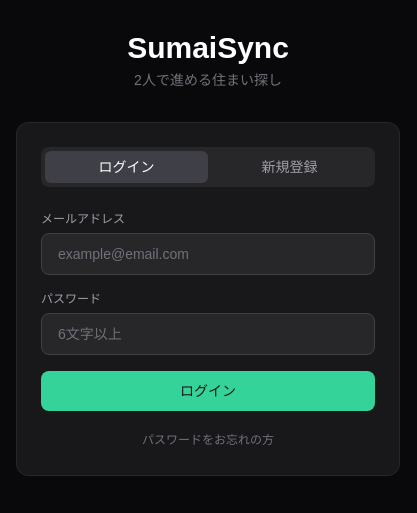
Test: LoginPage › サインアップ成功時に確認メール送信画面が表示される
Click the button "新規登録".
click(290, 167)  # box x1=208 y1=151 x2=371 y2=183
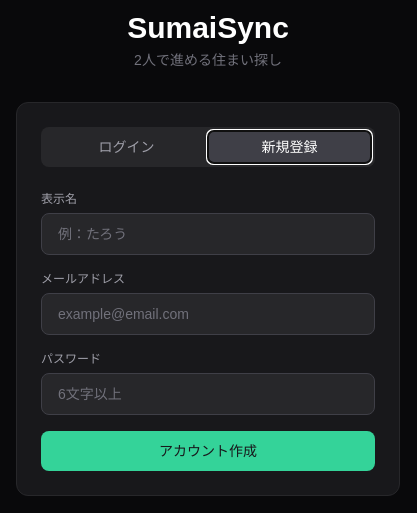
Type "たろう" into the field with placeholder "例：たろう".
click(208, 234); type("たろう")  # box x1=41 y1=213 x2=375 y2=255
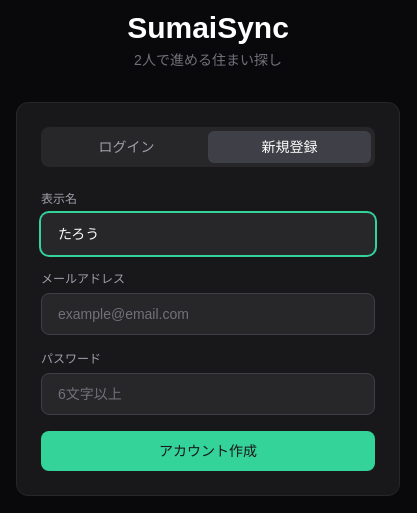
Type "new@example.com" into the field with placeholder "example@email.com".
click(208, 314); type("new@example.com")  # box x1=41 y1=293 x2=375 y2=335
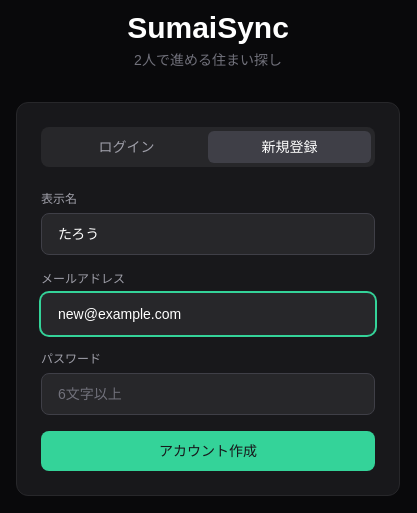
Type "password123" into the password field with placeholder "6文字以上".
click(208, 394); type("password123")  # box x1=41 y1=373 x2=375 y2=415
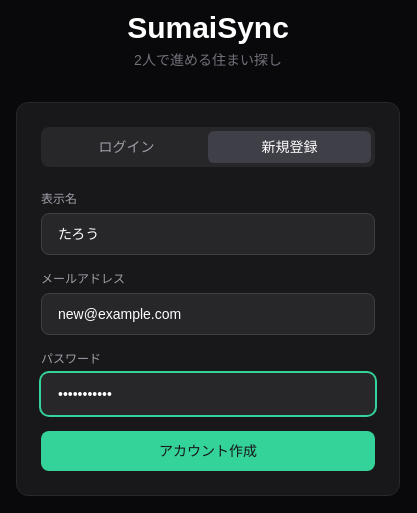
Click the button with test id "submit-button".
click(208, 451)  # box x1=41 y1=431 x2=375 y2=471
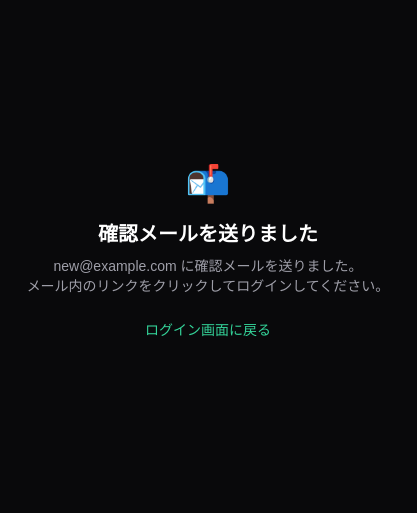
Check: the heading "確認メールを送りました" is shown, box x1=98 y1=223 x2=318 y2=245
